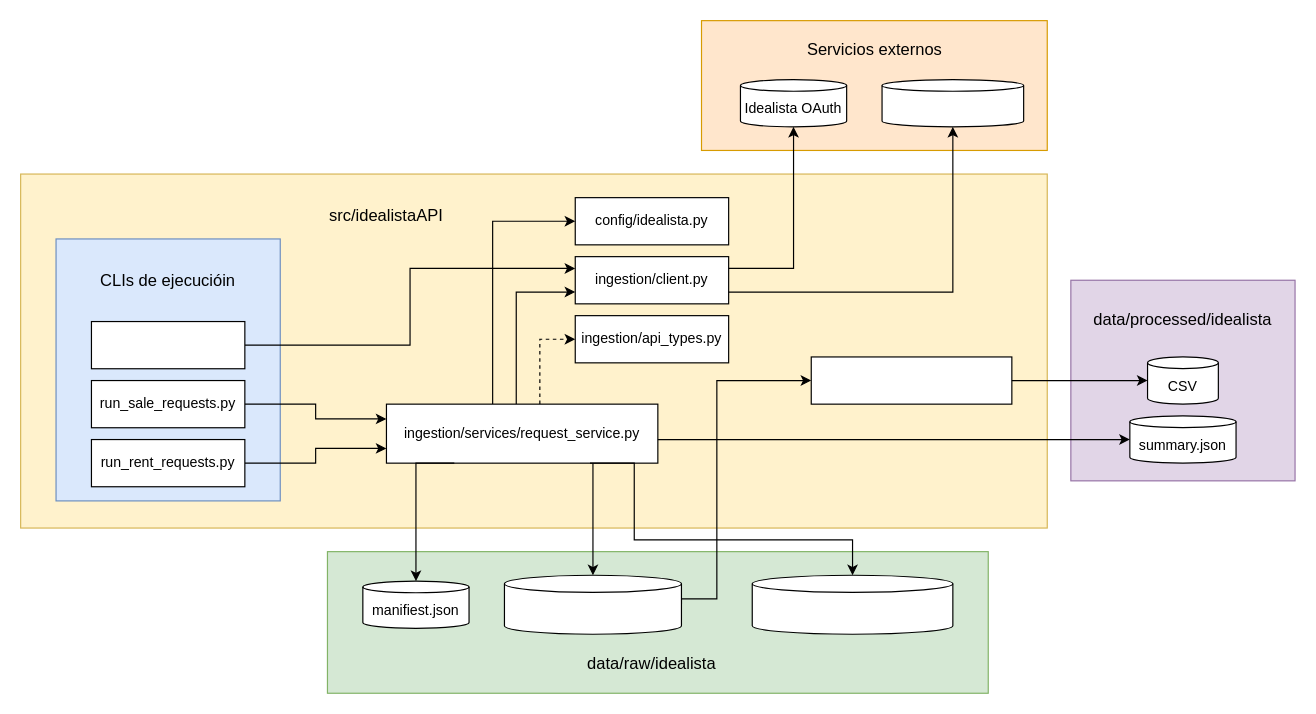
Image size: 1316x714. Some labels were removed from this diagram. The box of each missing label's shape, as (x1, y1, x2, y2) in pixels:
Idealista Search API: (881, 78, 1024, 127)
processing/clean_idealista.py: (810, 356, 1012, 404)
reqXXX_circle_pYYY.json: (503, 574, 681, 634)
reqXXX_STOP_QUOTA.json: (751, 574, 953, 634)
test_one_request.py: (90, 320, 245, 369)
